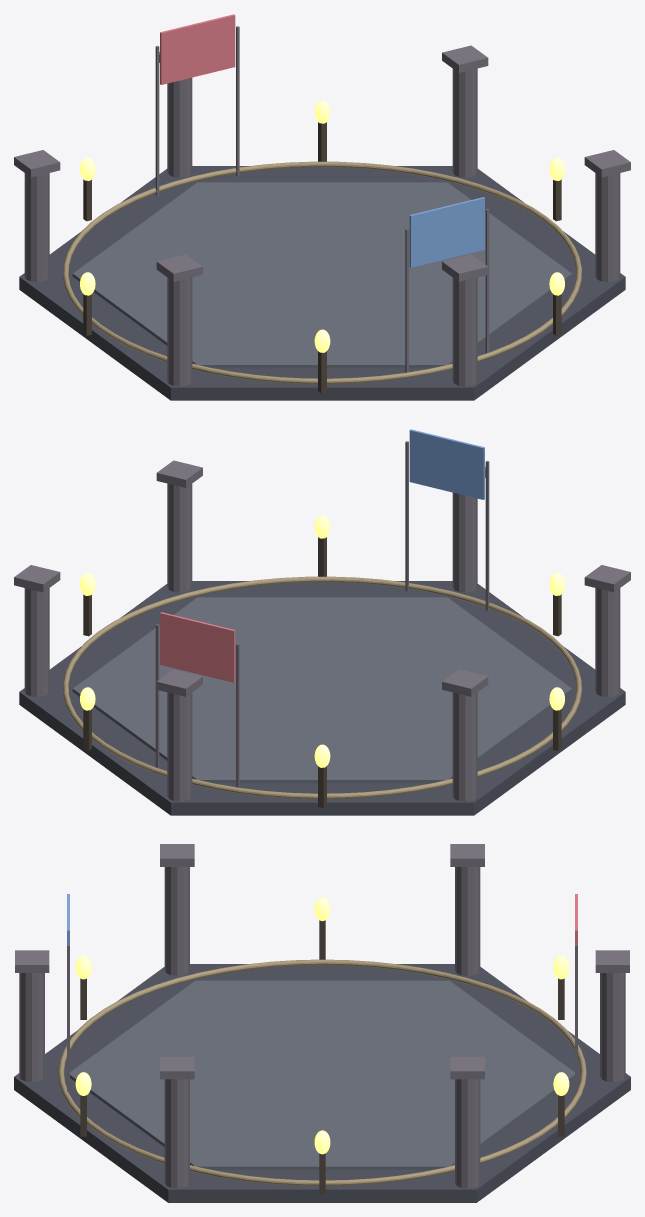
Rendered from arena.glb.
3 views of the same model, one above another, from view 1: azimuth 30°, elevation 25°; view 2: azimuth 150°, elevation 25°; view 3: azimuth 270°, elevation 25° (orthographic).
Visible parts, largest first — view 1: ArenaFloor_Inner, ArenaFloor_Outer, ArenaRing, Banner_Enemy, Banner_Player, Pillar_0, Pillar_3, Pillar_4, Pillar_2, Pillar_5, Pillar_1, PillarCap_2 (+8 smaller); view 2: ArenaFloor_Inner, ArenaFloor_Outer, ArenaRing, Banner_Player, Banner_Enemy, Pillar_2, Pillar_5, Pillar_1, Pillar_0, Pillar_3, Pillar_4, PillarCap_3 (+8 smaller); view 3: ArenaFloor_Inner, ArenaFloor_Outer, ArenaRing, Pillar_0, Pillar_5, Pillar_1, Pillar_4, Pillar_2, Pillar_3, PillarCap_0, PillarCap_5, PillarCap_1 (+3 smaller).
Boxes of the visible parts, box(x1,y1,x2,y2) form: ArenaFloor_Inner: box(72, 182, 572, 368); ArenaFloor_Outer: box(19, 166, 625, 400); ArenaRing: box(63, 161, 581, 384); Banner_Enemy: box(160, 14, 235, 84); Banner_Player: box(409, 197, 484, 267); Pillar_0: box(452, 68, 477, 177); Pillar_3: box(167, 277, 192, 386); Pillar_4: box(452, 277, 477, 386); Pillar_2: box(24, 173, 49, 281); Pillar_5: box(595, 173, 620, 281); Pillar_1: box(167, 77, 192, 177); PillarCap_2: box(14, 150, 60, 177); ArenaFloor_Inner: box(72, 597, 572, 783); ArenaFloor_Outer: box(19, 581, 625, 815); ArenaRing: box(63, 576, 581, 799); Banner_Player: box(409, 429, 484, 499); Banner_Enemy: box(160, 612, 235, 682); Pillar_2: box(452, 692, 477, 801); Pillar_5: box(167, 483, 192, 592); Pillar_1: box(167, 692, 192, 801); Pillar_0: box(24, 588, 49, 696); Pillar_3: box(595, 588, 620, 696); Pillar_4: box(452, 492, 477, 592); PillarCap_3: box(584, 565, 630, 592); ArenaFloor_Inner: box(70, 980, 574, 1169); ArenaFloor_Outer: box(14, 964, 630, 1202); ArenaRing: box(58, 959, 586, 1185); Pillar_0: box(455, 1079, 480, 1188); Pillar_5: box(164, 1079, 189, 1188); Pillar_1: box(600, 973, 625, 1082); Pillar_4: box(19, 973, 44, 1082); Pillar_2: box(455, 867, 480, 975); Pillar_3: box(164, 867, 189, 975); PillarCap_0: box(450, 1056, 484, 1079); PillarCap_5: box(160, 1056, 194, 1079); PillarCap_1: box(595, 950, 629, 972).
Size of the model in its own units: 15.64 by 5.4 by 17.
